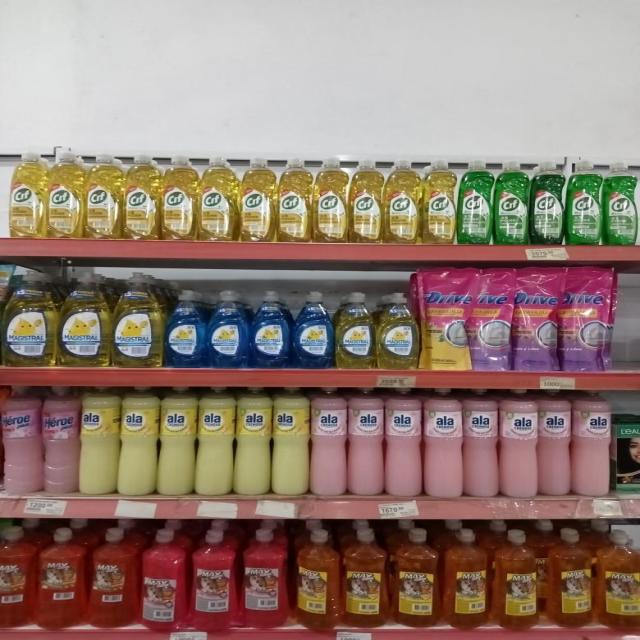ala_crem_amarillo: (197, 386, 235, 496), (158, 386, 196, 496), (272, 386, 310, 496), (120, 386, 157, 496), (81, 386, 118, 496), (235, 387, 271, 496)
ala_crem_rosado: (572, 390, 613, 498), (424, 388, 462, 500), (500, 388, 537, 500), (385, 387, 422, 498), (310, 387, 346, 498), (348, 387, 383, 497), (464, 388, 498, 499), (538, 388, 571, 498)
cif_conc_bot_amarilla: (199, 156, 238, 242), (8, 152, 46, 238), (48, 150, 84, 239), (86, 153, 122, 240), (124, 154, 160, 240), (240, 157, 276, 242), (384, 159, 420, 244), (313, 157, 348, 243), (162, 155, 197, 241), (277, 158, 312, 243), (422, 159, 456, 245), (350, 158, 383, 244)
cif_conc_botella_verde: (566, 160, 602, 246), (458, 159, 493, 245), (494, 160, 528, 246), (531, 160, 564, 245), (604, 161, 636, 246)
drive: (560, 266, 610, 372), (514, 267, 558, 372), (471, 267, 512, 371)
heroe: (1, 385, 42, 496), (42, 385, 78, 496)
magistral_con_amarillo: (1, 272, 56, 368), (112, 272, 164, 369), (60, 269, 110, 368), (378, 292, 419, 371), (336, 292, 375, 369)
magistral_con_azul: (166, 288, 206, 369), (251, 289, 291, 369), (208, 289, 248, 369), (293, 290, 333, 369)
